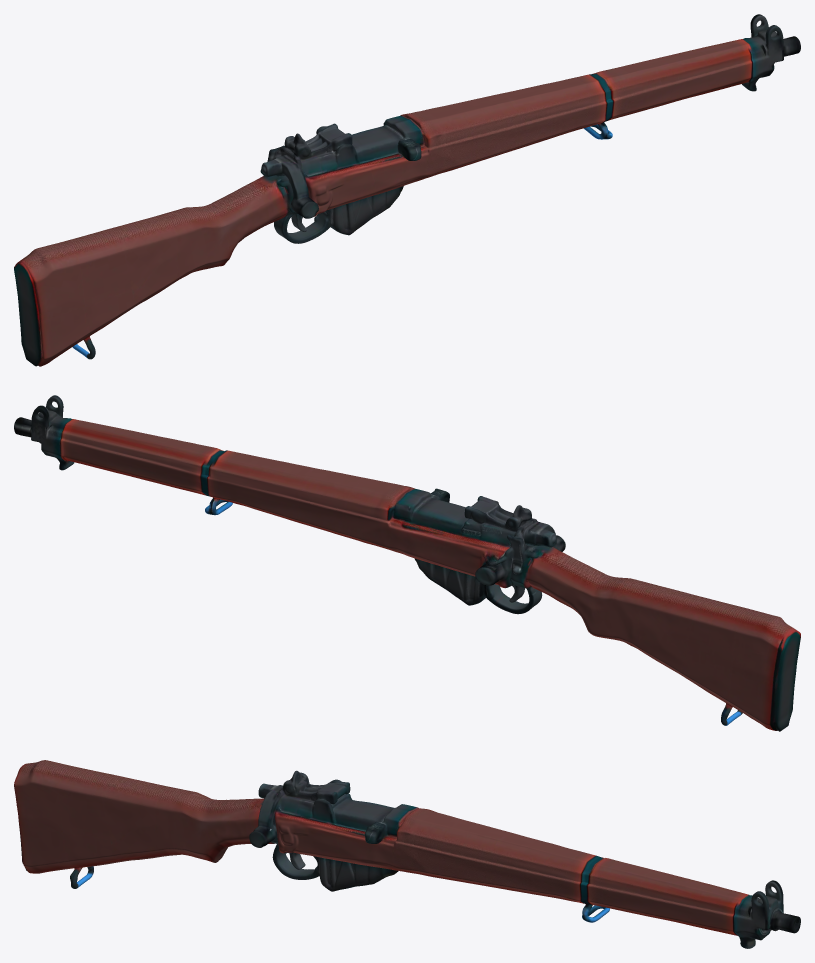
3 renders of one model, top to bottom at view 1: azimuth 30°, elevation 25°; view 2: azimuth 150°, elevation 25°; view 3: azimuth 330°, elevation 25°, orthographic.
Parts seen in each view (by area): view 1: Object_01; view 2: Object_01; view 3: Object_01.
Part boxes in pixels (x1,y1,x2,y2): Object_01: (14,14,800,366); Object_01: (14,395,800,731); Object_01: (14,760,800,948).
Bounding box in the file's own units: 1 × 0.2036 × 0.1197.
Materials: 1 (1 with a texture image).
